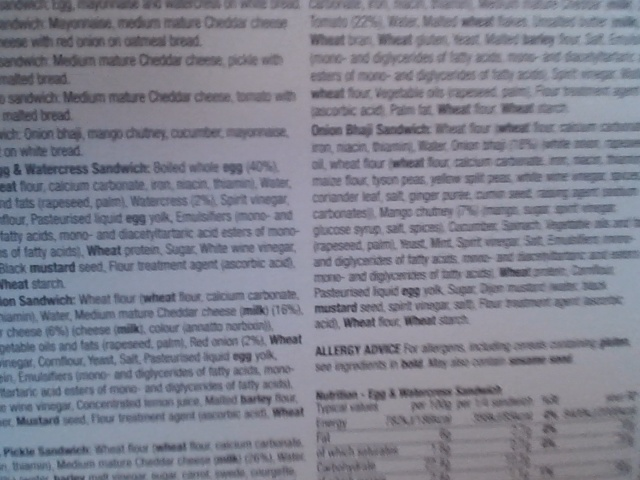egg: (221, 160, 245, 177), (231, 348, 253, 365), (123, 212, 148, 225), (402, 285, 421, 299)
wheat: (85, 244, 123, 257), (268, 332, 306, 345), (498, 268, 532, 279)
